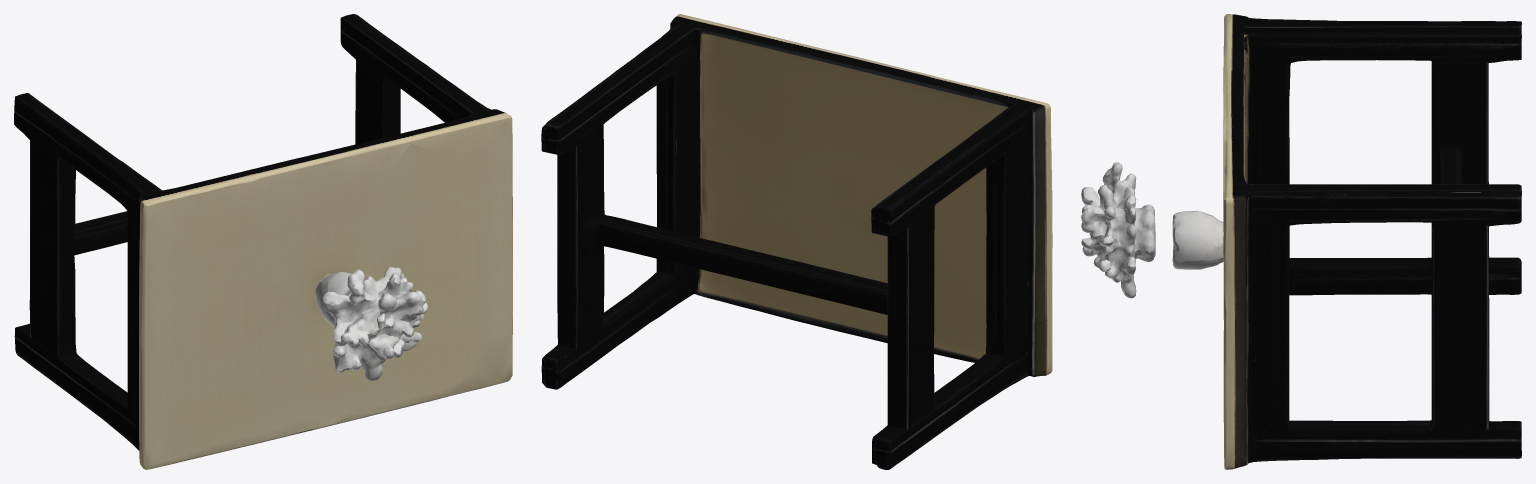
The model's file is out_sim.glb.
The picture shows the model from 3 angles, left to right: view 1: azimuth 30°, elevation 25°; view 2: azimuth 150°, elevation 25°; view 3: azimuth 270°, elevation 25°; orthographic projection. The views are drawn at different scales.
Parts seen in each view (by area): view 1: world; view 2: world; view 3: world.
Part boxes in pixels (x1,y1,x2,y2): world: [14, 14, 512, 469]; world: [541, 14, 1052, 469]; world: [1081, 14, 1521, 469].
Size of the model in its own units: 1 by 0.6891 by 1.
1 material, 1 textured.
